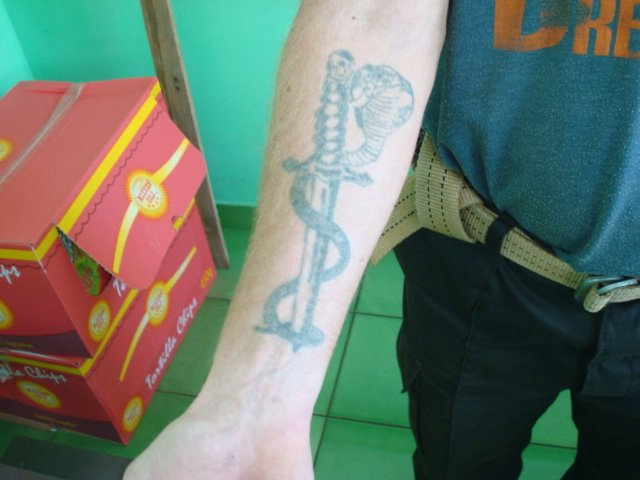tatu7_zmeya: (288, 54, 412, 374)
